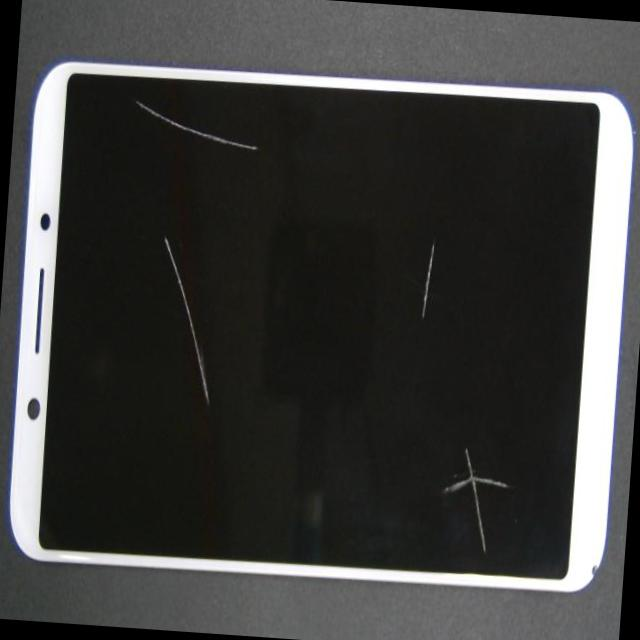scratch: (154, 234, 220, 406), (436, 444, 512, 556), (132, 98, 259, 152), (417, 239, 437, 324)
